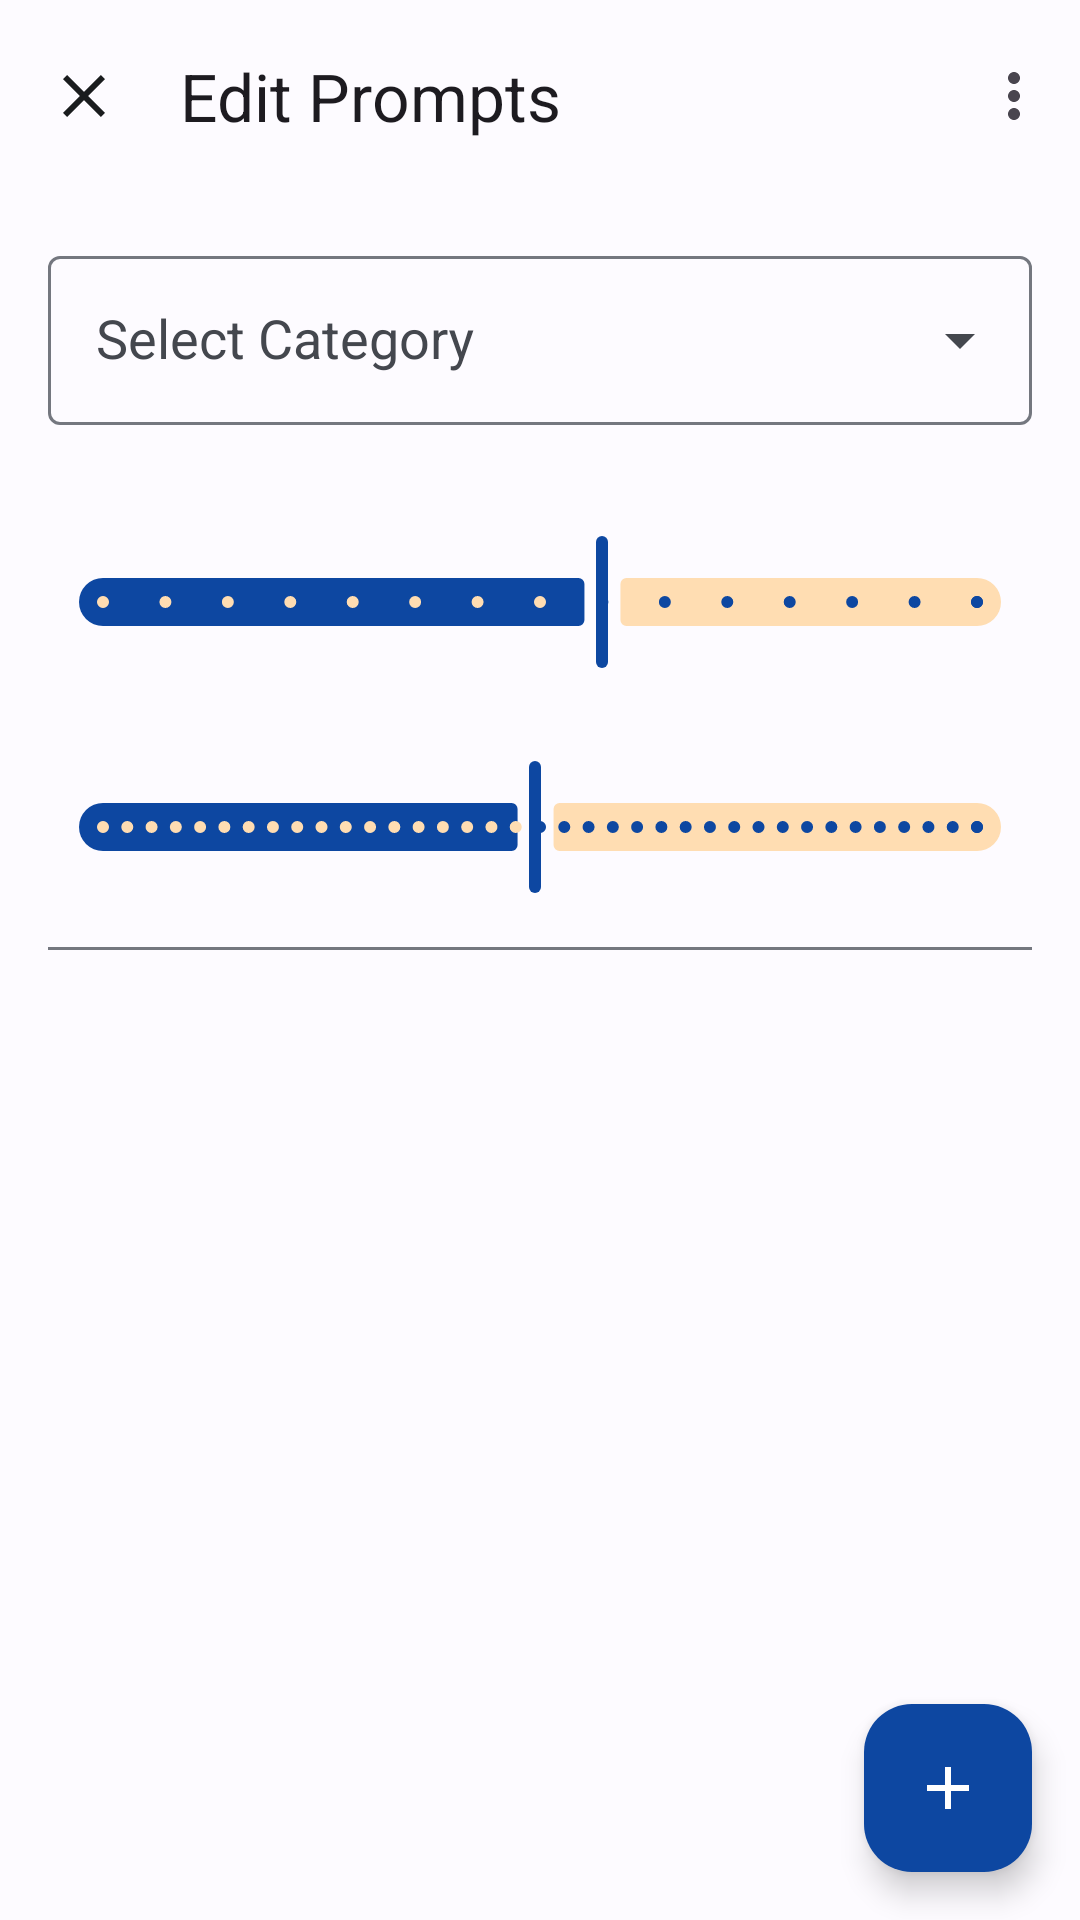

Where to tap for icons on this 1080w x 1920h app screen, as [x,y]:
Add New Action: [948,1788]
